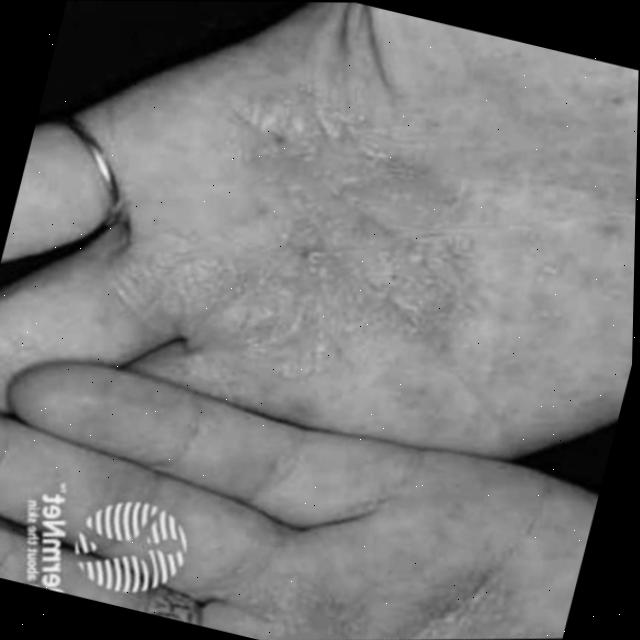Eczema: (106, 58, 584, 565)
